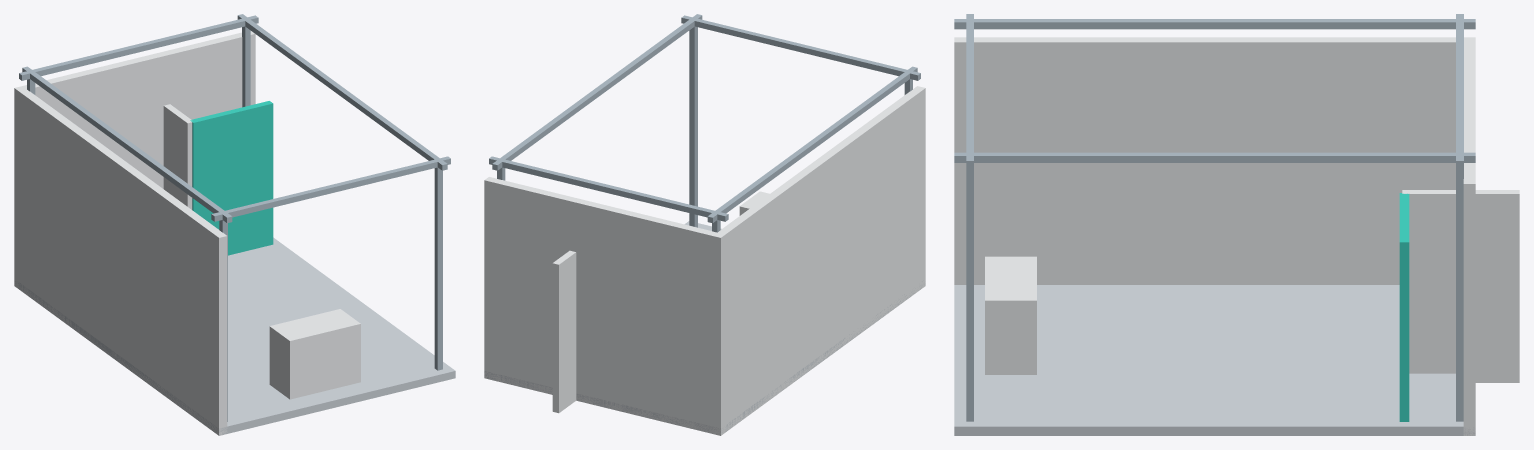
3 views of the same model, side by side, from view 1: azimuth 30°, elevation 25°; view 2: azimuth 150°, elevation 25°; view 3: azimuth 270°, elevation 25° (orthographic). The views are drawn at different scales.
Visible parts, largest first — view 1: Exhibition Booth Concept; view 2: Exhibition Booth Concept; view 3: Exhibition Booth Concept.
Boxes of the visible parts, left/top/right/bottom form: Exhibition Booth Concept: left=14, top=14, right=455, bottom=435; Exhibition Booth Concept: left=484, top=14, right=925, bottom=435; Exhibition Booth Concept: left=954, top=14, right=1519, bottom=435.
Bounding box in the file's own units: 4 × 3.49 × 6.51.
